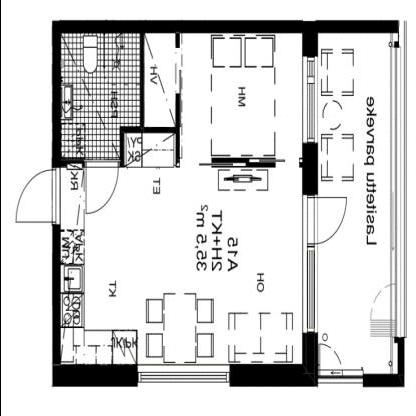door: (13, 165, 62, 227), (297, 189, 348, 247), (83, 154, 119, 219)
window: (131, 354, 238, 396), (294, 245, 321, 339), (312, 354, 368, 397), (298, 49, 320, 150)
